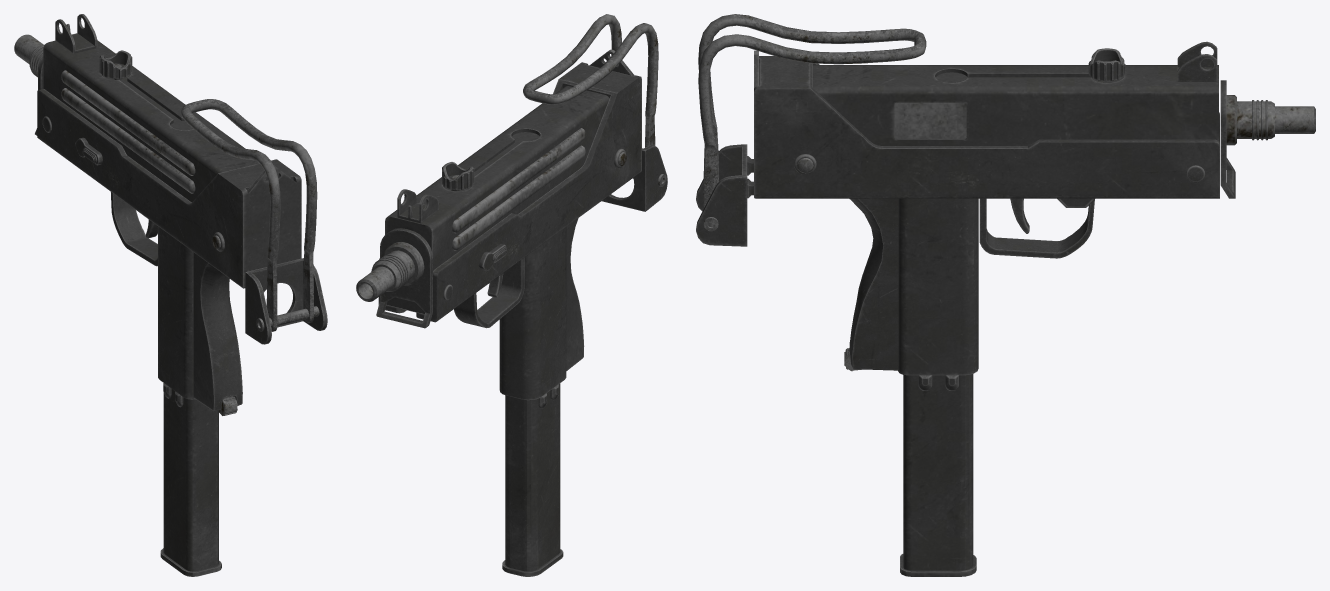
The model's file is mac10.glb.
3 views of the same model, side by side, from view 1: azimuth 30°, elevation 25°; view 2: azimuth 150°, elevation 25°; view 3: azimuth 270°, elevation 25° (orthographic). The views are drawn at different scales.
Parts seen in each view (by area): view 1: Body, Magazine; view 2: Body, Magazine; view 3: Body, Magazine.
Part boxes in pixels (x1,y1,x2,y2): Body: (14,14,327,576); Magazine: (160,393,182,573); Body: (356,14,667,569); Magazine: (502,395,560,576); Body: (696,14,1315,576); Magazine: (912,375,976,576).
Size of the model in its own units: 0.0445 by 0.2893 by 0.3.
Materials: 1 (1 with a texture image).
